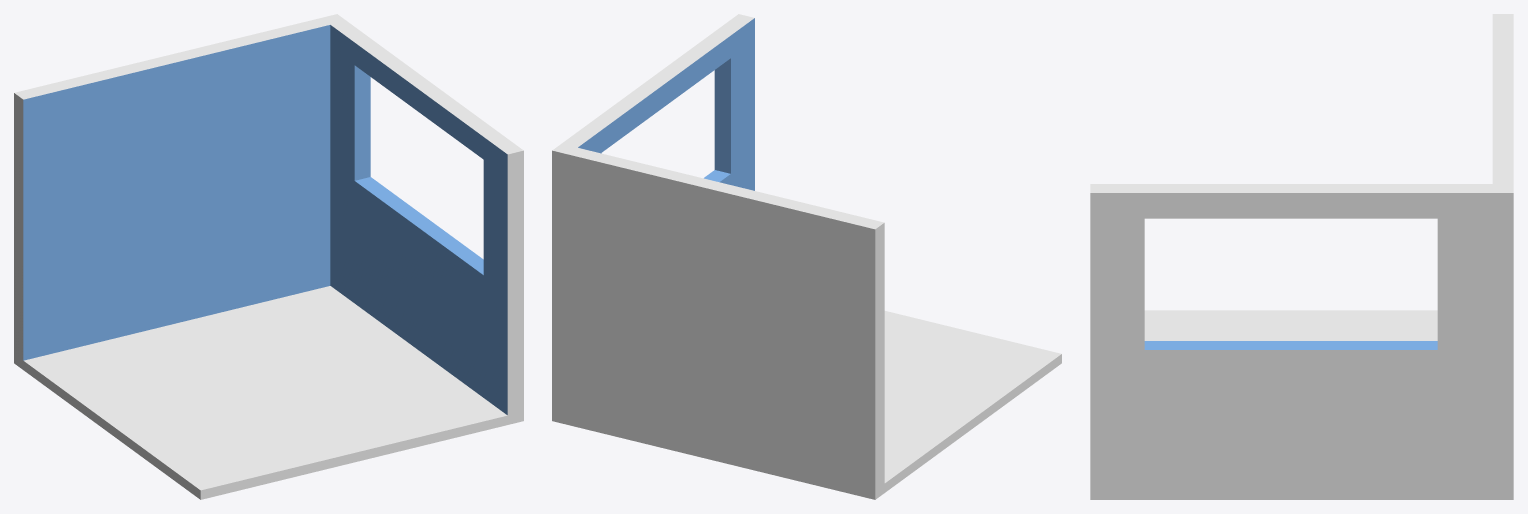
Rendered from Wall_29.fbx.
3 renders of one model, left to right at view 1: azimuth 30°, elevation 25°; view 2: azimuth 150°, elevation 25°; view 3: azimuth 270°, elevation 25°, orthographic. The views are drawn at different scales.
Visible parts, largest first — view 1: Wall_29; view 2: Wall_29; view 3: Wall_29.
Part boxes in pixels (box(x1,y1,x2,y2)): Wall_29: box(14, 14, 523, 499); Wall_29: box(552, 14, 1061, 499); Wall_29: box(1090, 14, 1513, 499).
Size of the model in its own units: 3.8 by 3.04 by 3.8.
